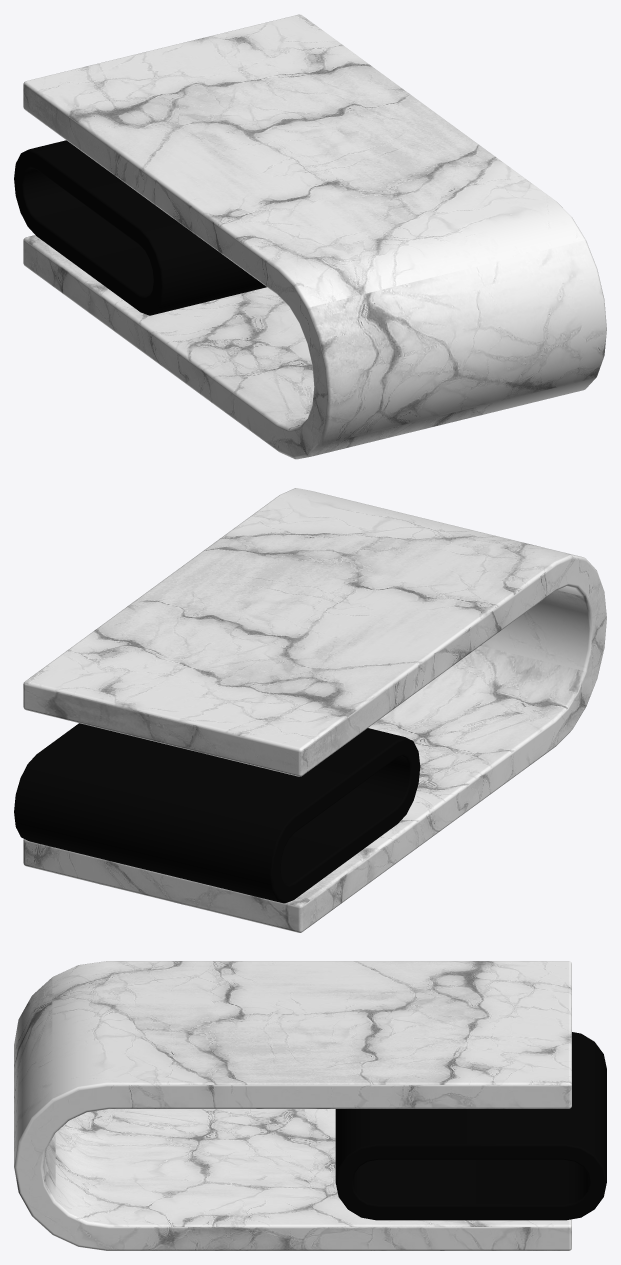
Rendered from marble_table_1.glb.
3 renders of one model, top to bottom at view 1: azimuth 30°, elevation 25°; view 2: azimuth 150°, elevation 25°; view 3: azimuth 270°, elevation 25°, orthographic. The views are drawn at different scales.
Parts seen in each view (by area): view 1: Plane.007, Plane.008; view 2: Plane.007, Plane.008; view 3: Plane.007, Plane.008.
Boxes of the visible parts, bbox=[...] form: Plane.007: bbox=[23, 14, 606, 459]; Plane.008: bbox=[14, 140, 266, 315]; Plane.007: bbox=[23, 488, 606, 932]; Plane.008: bbox=[14, 723, 420, 903]; Plane.007: bbox=[14, 961, 571, 1250]; Plane.008: bbox=[335, 1032, 606, 1220].
Bounding box in the file's own units: 1.43 × 0.9089 × 2.9.
2 materials, 1 textured.
